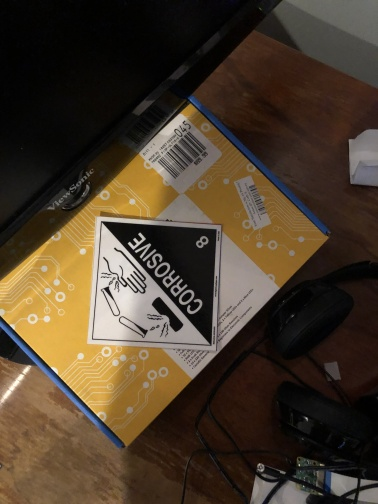Corrosive: (95, 217, 216, 352)
